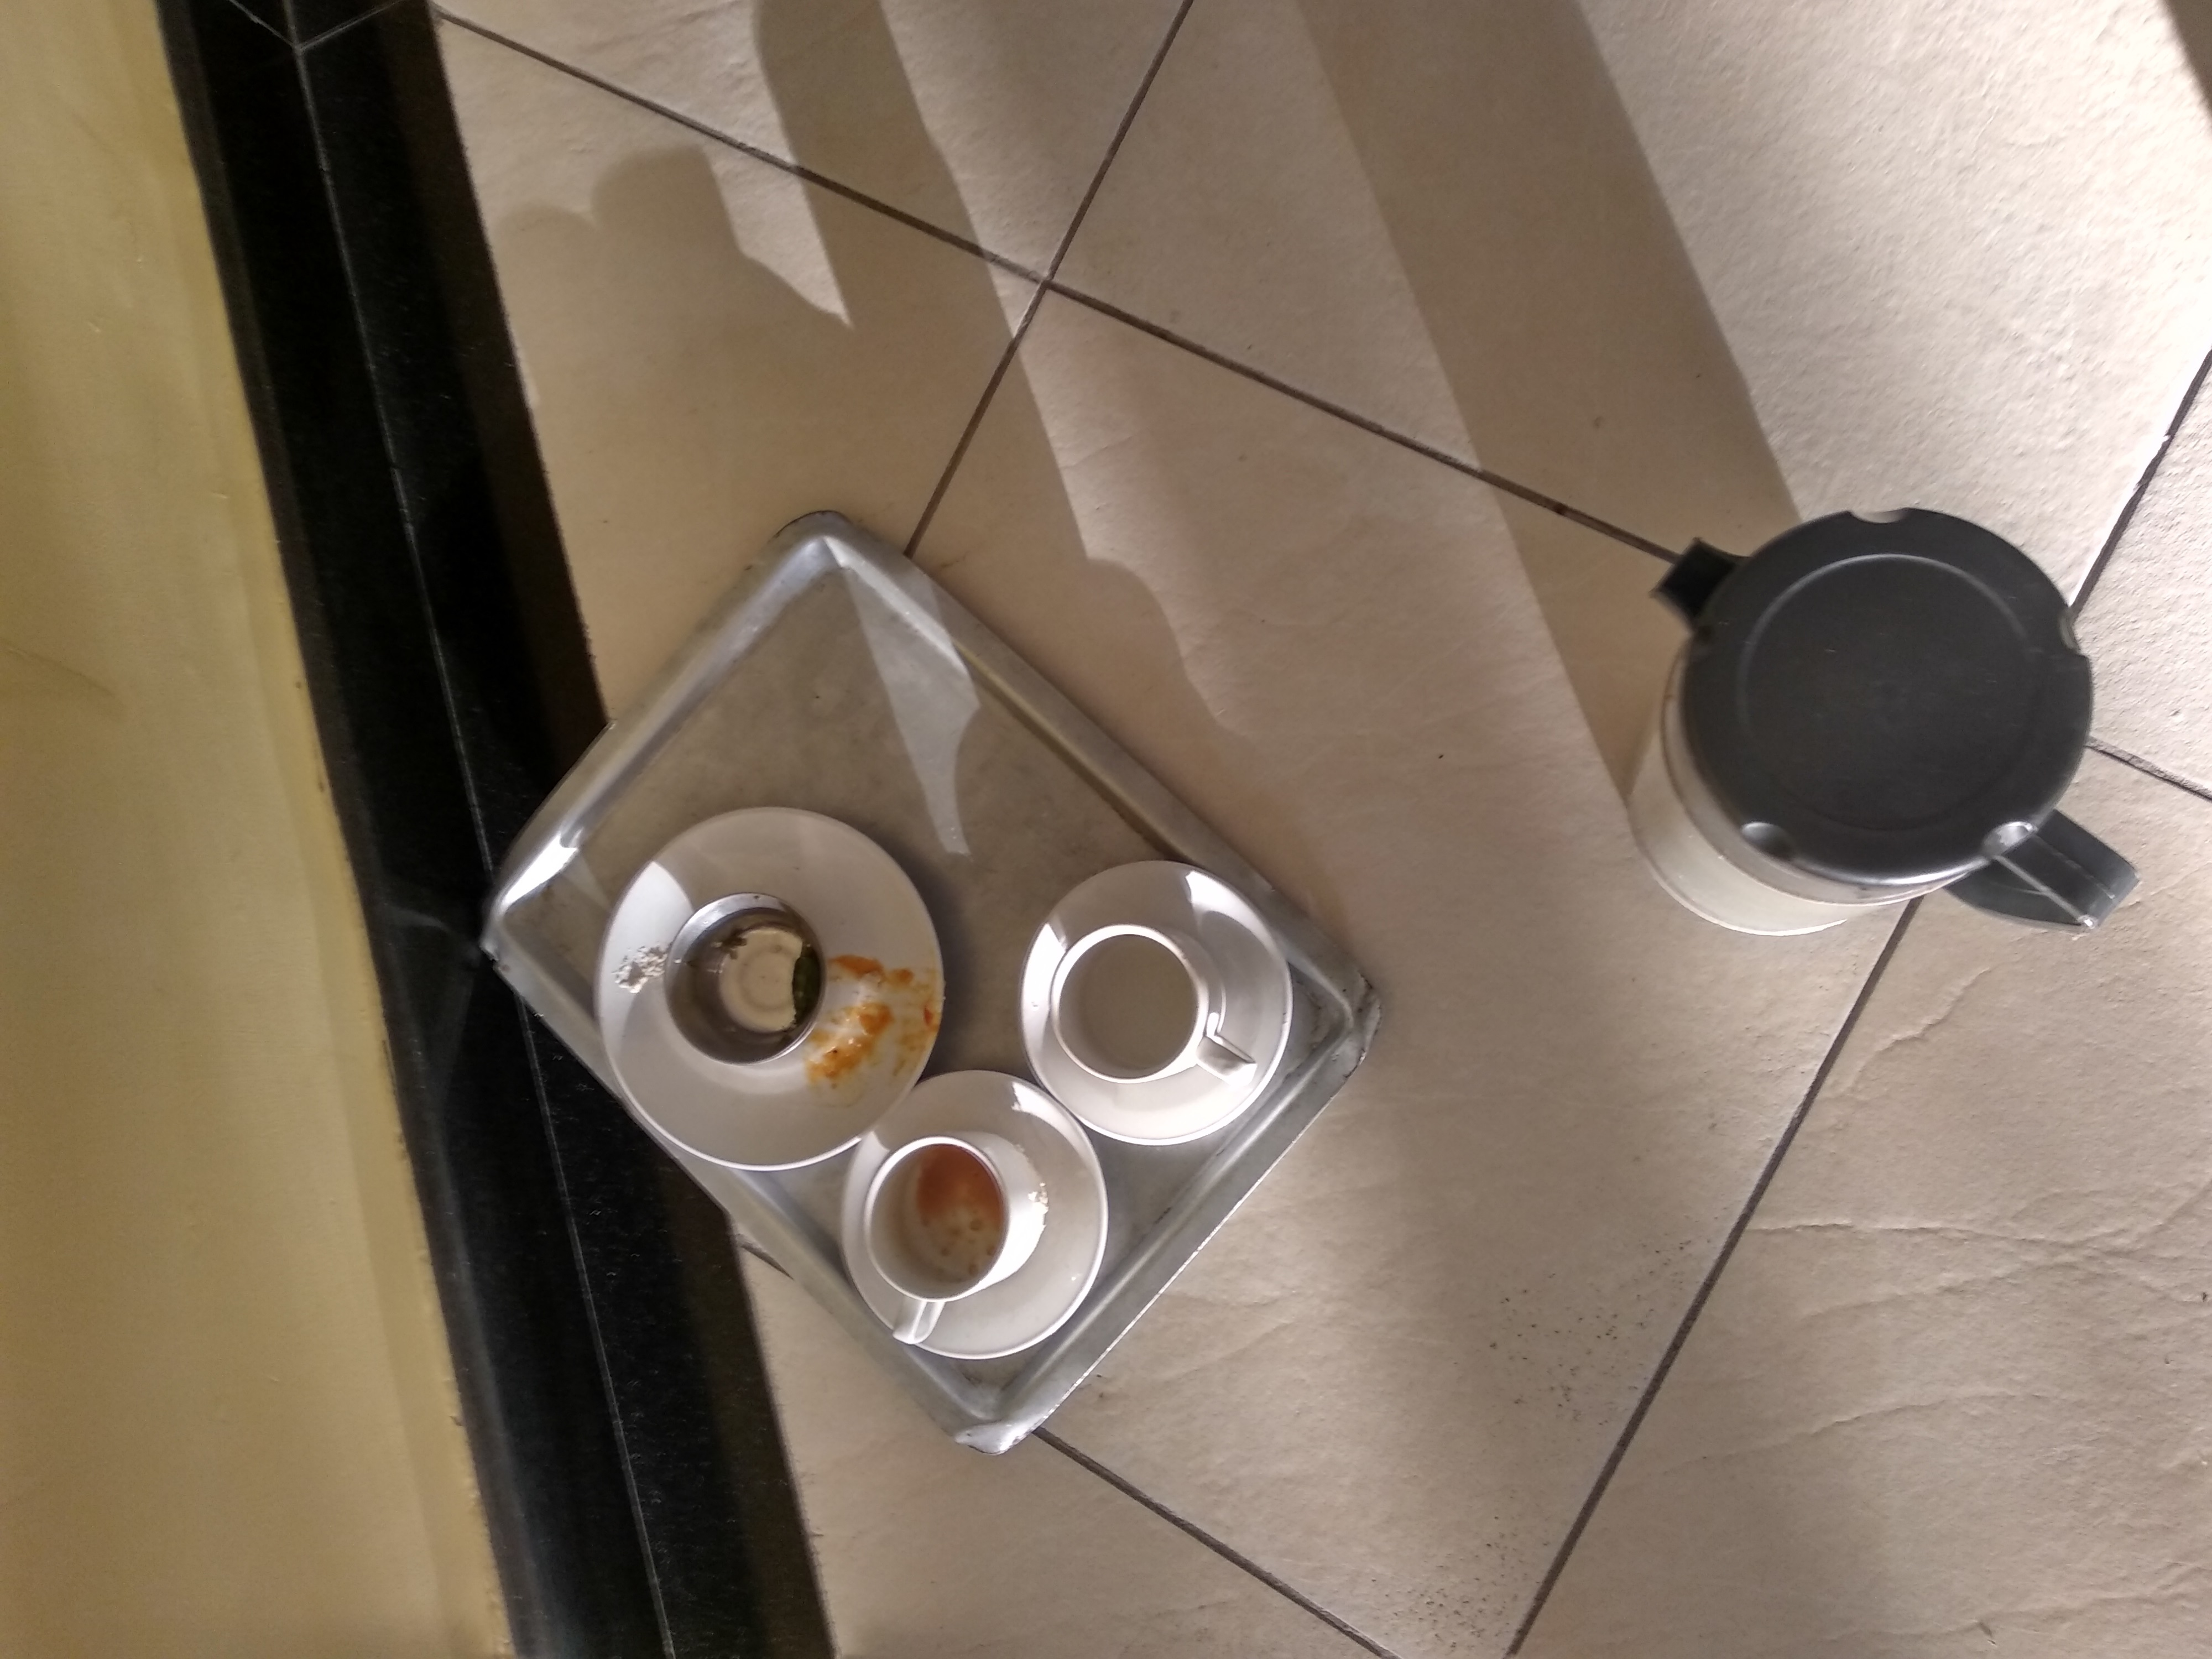CUP: (848, 1134, 1062, 1345), (1031, 922, 1254, 1091), (660, 892, 833, 1072)
JUG: (1635, 483, 2156, 960)
